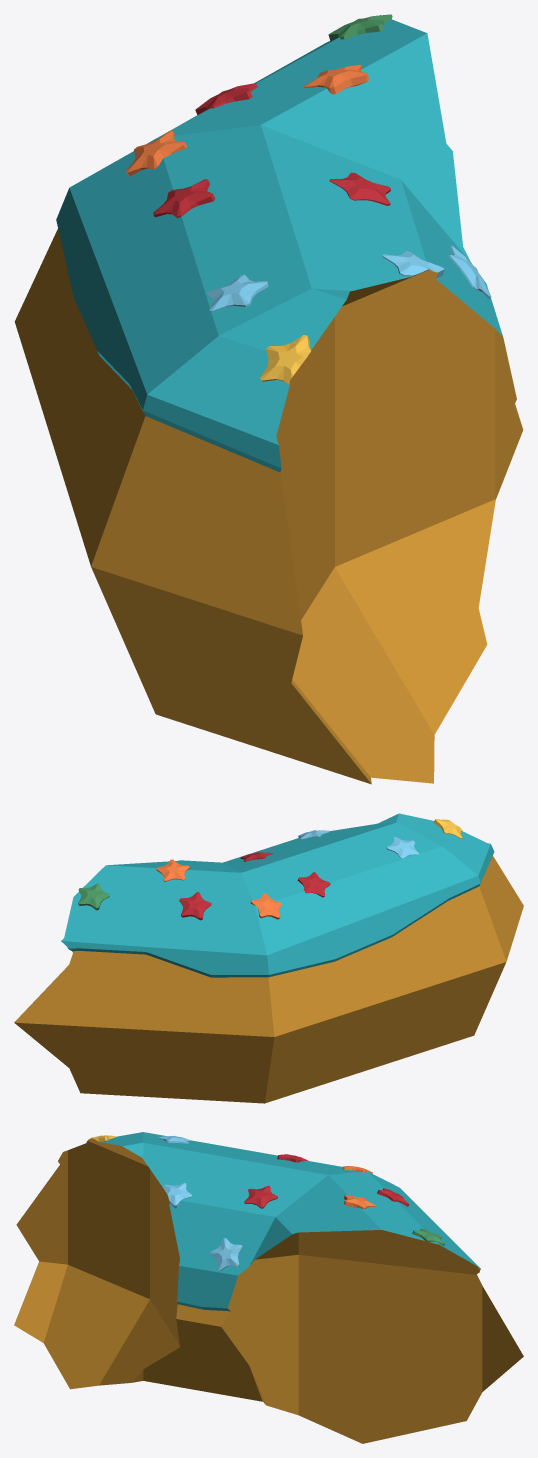
Rendered from DonutState4.fbx.
3 renders of one model, top to bottom at view 1: azimuth 30°, elevation 25°; view 2: azimuth 150°, elevation 25°; view 3: azimuth 270°, elevation 25°, orthographic. The views are drawn at different scales.
Visible parts, largest first — view 1: DonutState4; view 2: DonutState4; view 3: DonutState4.
Boxes of the visible parts, x1,y1,x2,y2 form: DonutState4: (14, 14, 523, 784); DonutState4: (14, 813, 523, 1103); DonutState4: (14, 1132, 523, 1443).
Bounding box in the file's own units: 55.67 × 40.23 × 77.96.
